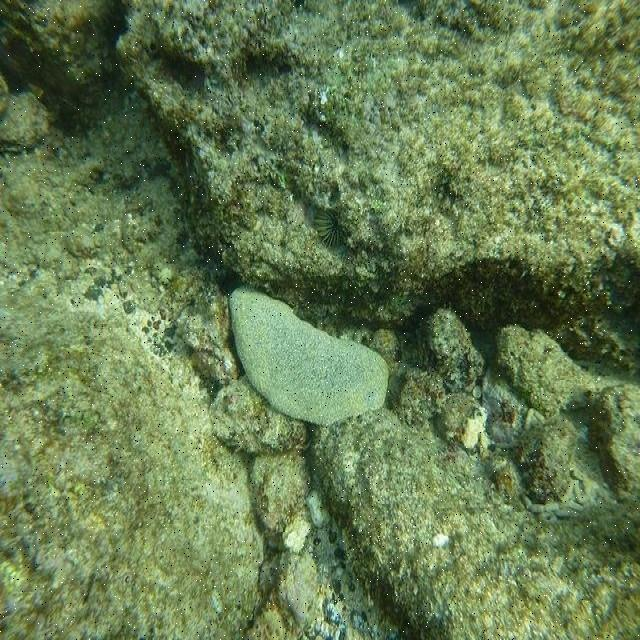reefs: (313, 209, 350, 248)
sea-floor: (0, 77, 419, 639), (119, 0, 639, 379), (308, 308, 639, 639), (228, 284, 389, 427), (0, 1, 126, 146)
